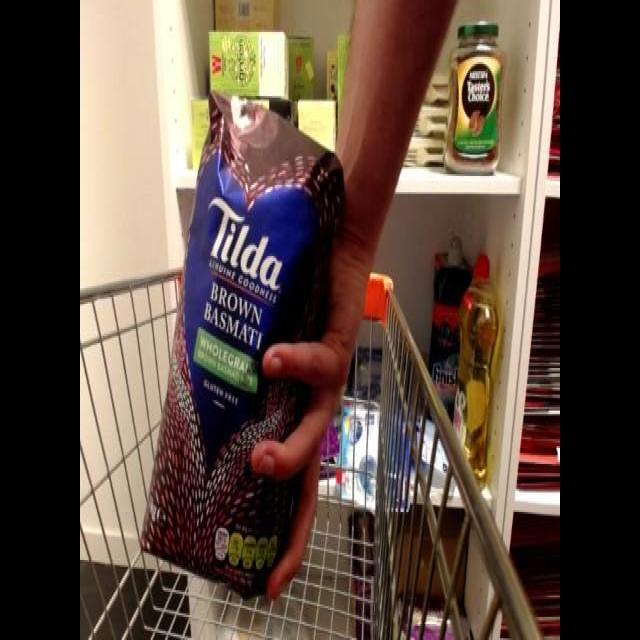Tida: (138, 92, 360, 598)
